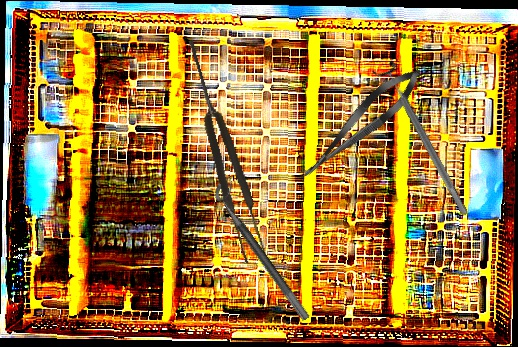Fixation Ring: (370, 57, 478, 222), (209, 176, 322, 323)
Micro Scissor: (290, 59, 430, 190)
Tissue Forceps: (178, 36, 270, 265)
